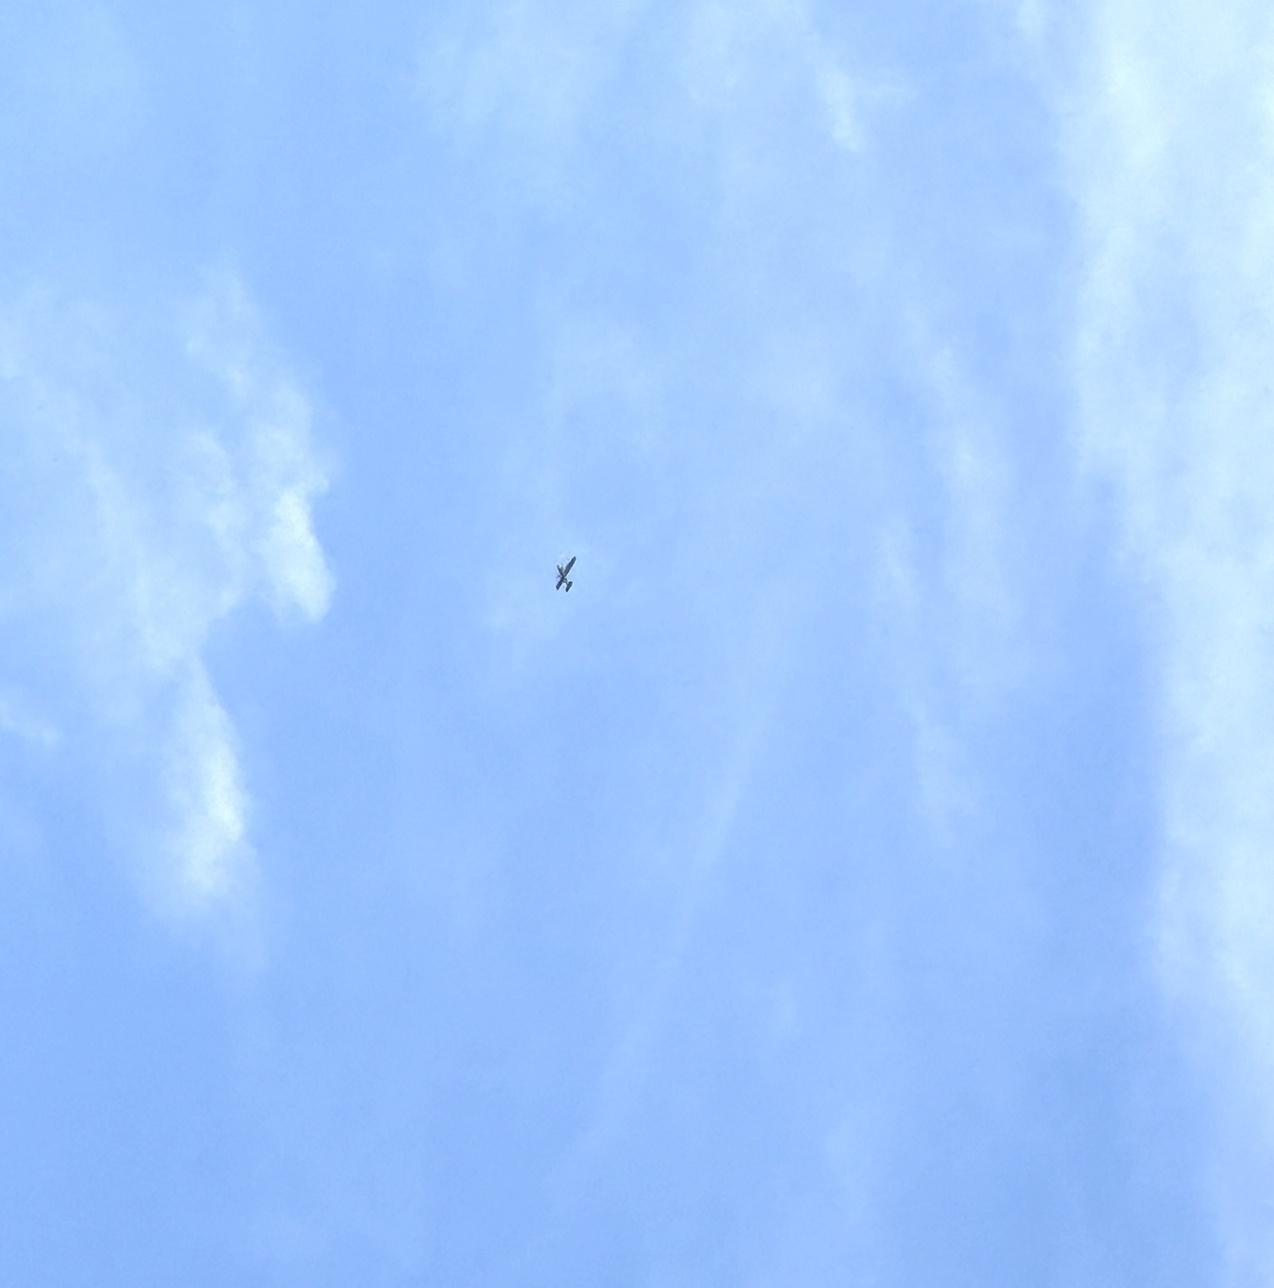Plane: (535, 535, 600, 612)
